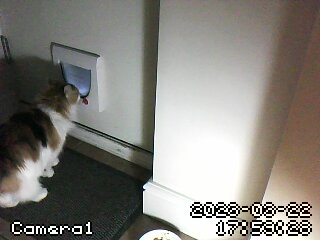clara: (2, 70, 90, 222)
